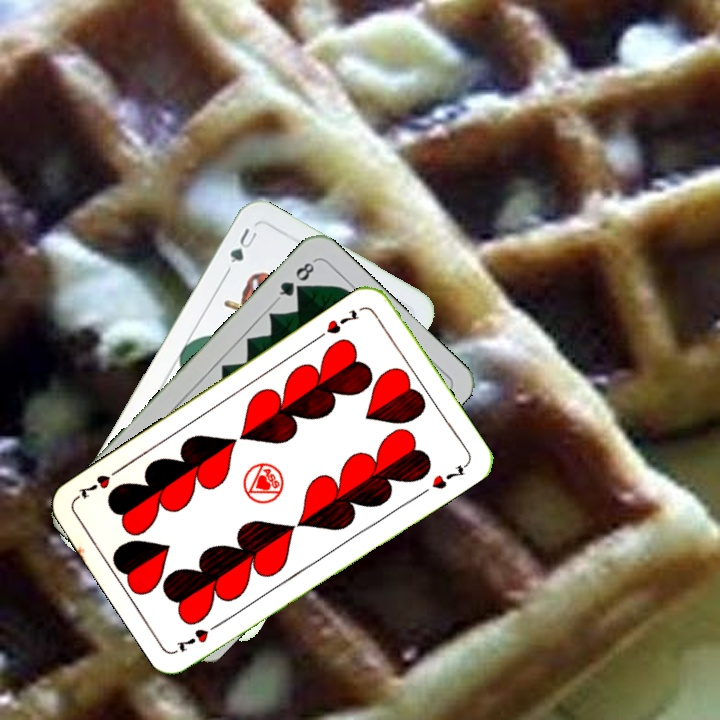G8: (273, 256, 318, 303)
GU: (225, 224, 260, 266)
H7: (173, 617, 226, 655), (313, 305, 362, 342)
